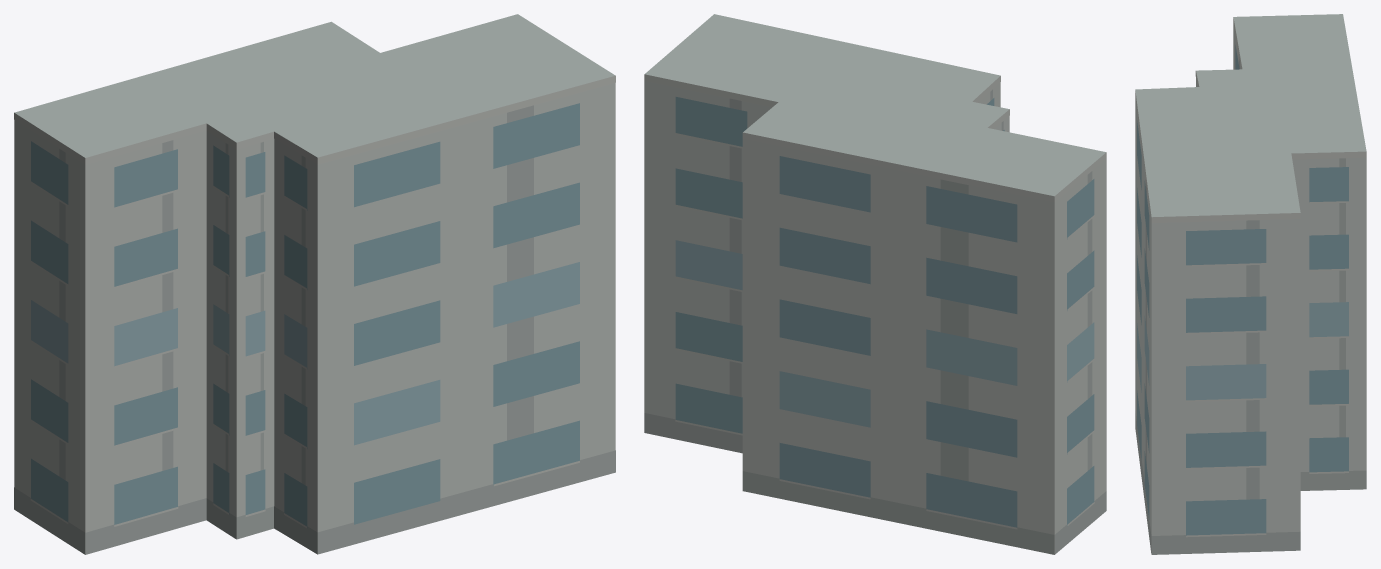
Rendered from survey-upis-32696387.glb.
3 renders of one model, left to right at view 1: azimuth 30°, elevation 25°; view 2: azimuth 150°, elevation 25°; view 3: azimuth 270°, elevation 25°, orthographic. The views are drawn at different scales.
Visible parts, largest first — view 1: survey-upis-32696387.tmp; view 2: survey-upis-32696387.tmp; view 3: survey-upis-32696387.tmp.
Boxes of the visible parts, box(x1,y1,x2,y2) form: survey-upis-32696387.tmp: box(14, 14, 615, 554); survey-upis-32696387.tmp: box(644, 14, 1106, 554); survey-upis-32696387.tmp: box(1135, 14, 1366, 554).
Size of the model in its own units: 17.42 by 13.5 by 8.39.
